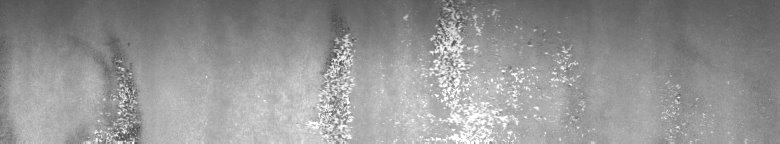hc: (95, 58, 141, 136)
